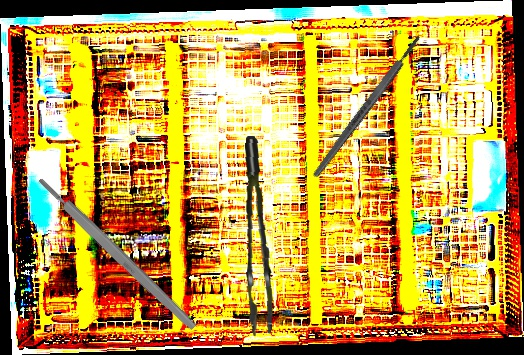Scalpel Handle: (35, 174, 199, 333), (310, 33, 424, 180)
Tissue Forceps: (232, 135, 285, 338)
